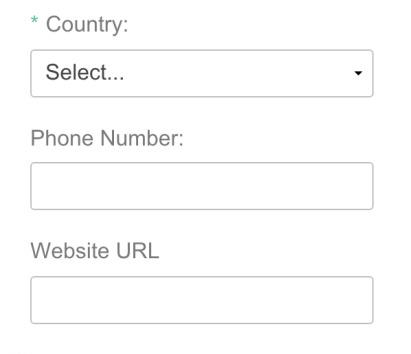field: (28, 273, 377, 325), (27, 48, 377, 99), (27, 159, 376, 210)
field_with_label: (22, 11, 380, 104), (25, 239, 380, 327), (22, 129, 380, 214)
